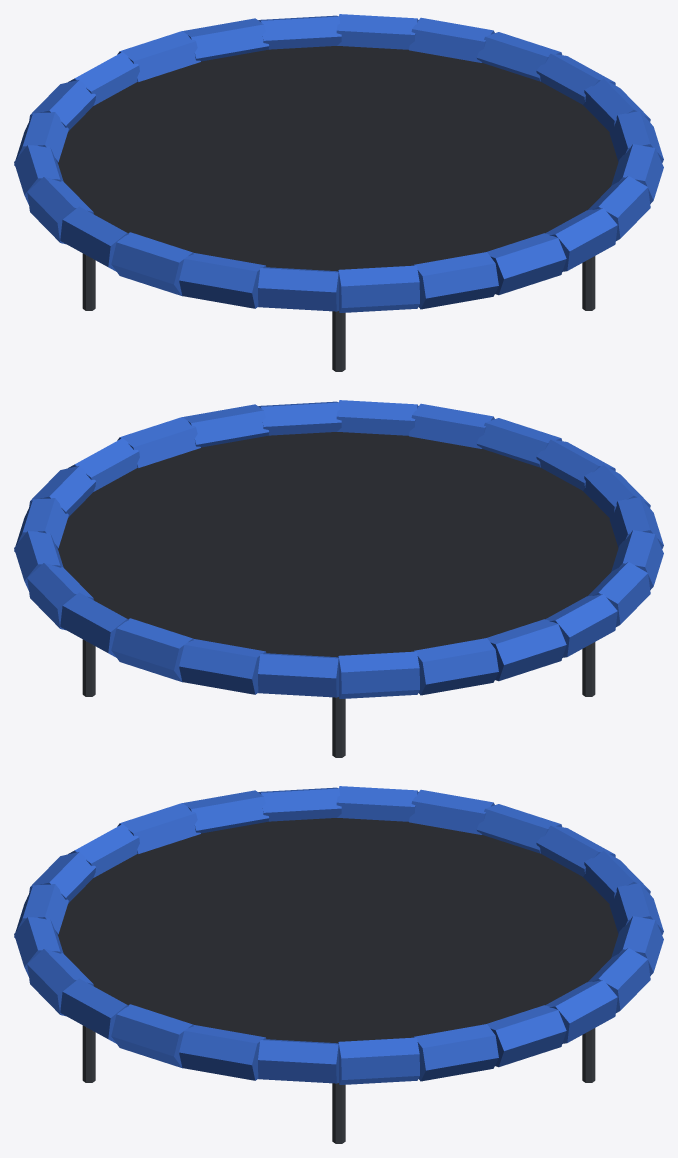
Rendered from trampoline.glb.
The picture shows the model from 3 angles, top to bottom: view 1: azimuth 30°, elevation 25°; view 2: azimuth 150°, elevation 25°; view 3: azimuth 270°, elevation 25°; orthographic projection.
Parts seen in each view (by area): view 1: trampoline; view 2: trampoline; view 3: trampoline.
Boxes of the visible parts, left/top/right/bottom form: trampoline: left=14, top=14, right=663, bottom=371; trampoline: left=14, top=400, right=663, bottom=757; trampoline: left=14, top=786, right=663, bottom=1143.
Bounding box in the file's own units: 6.84 × 1.22 × 6.87.
